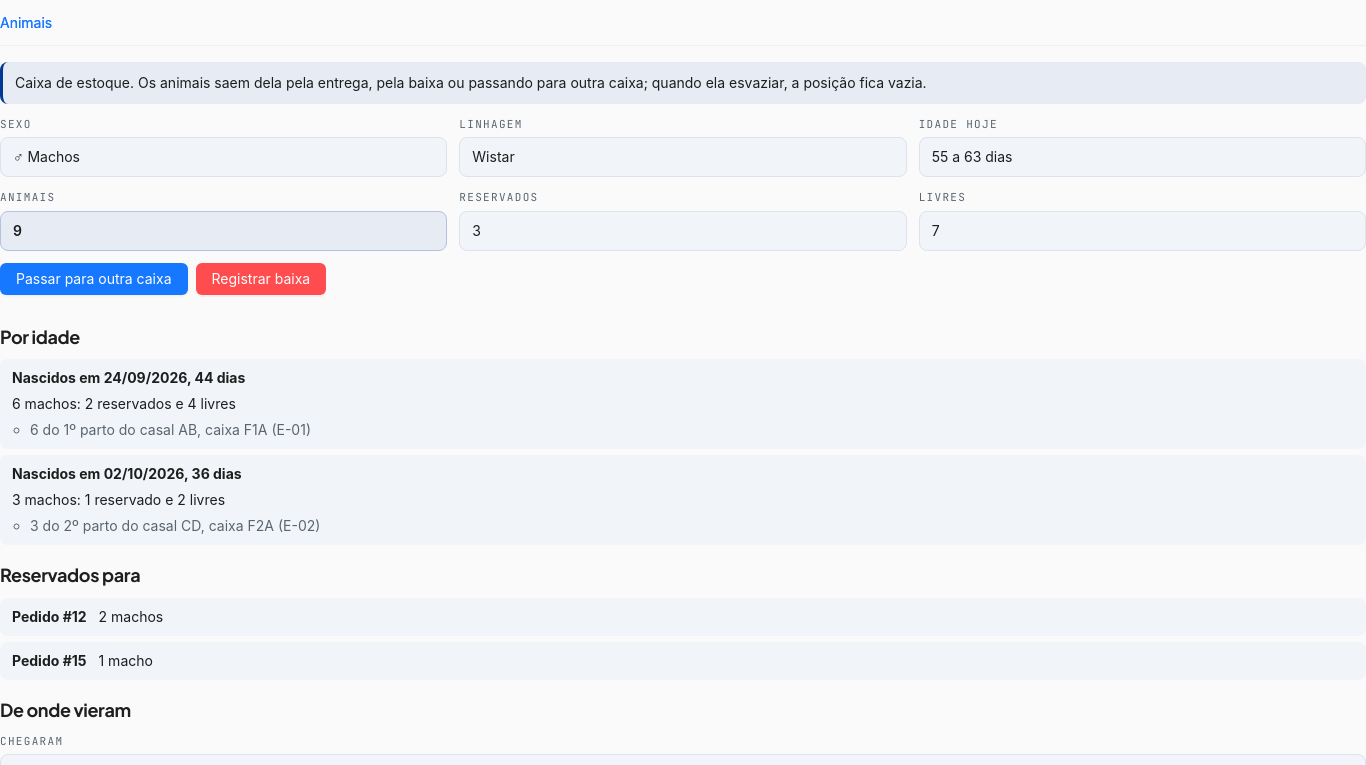
Test: ficha da caixa de estoque › "só os do pedido" oferece só os pedidos com reservado na idade escolhida
Later steps or results of the test are not shown.
Click the button "Passar para outra caixa". click: (94, 279)
box: [0,263,188,295]
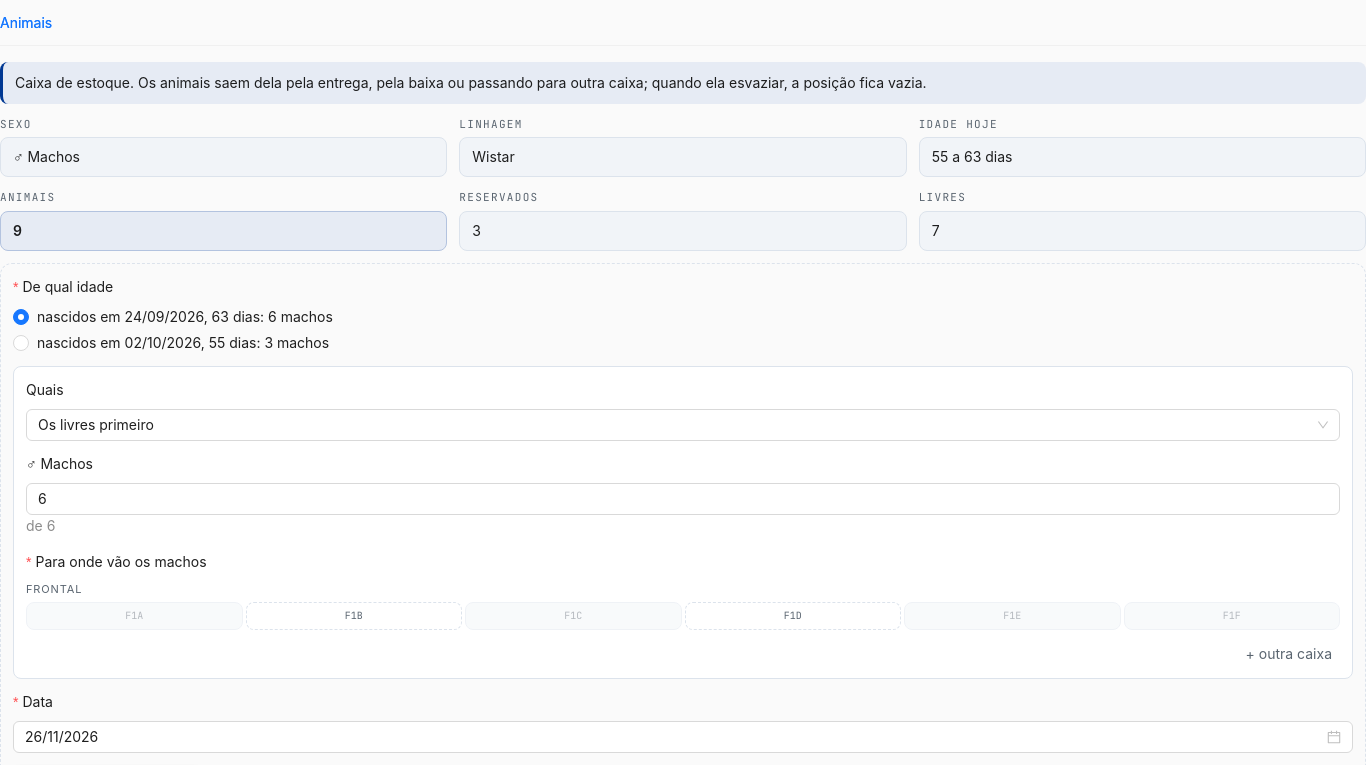
Press the mouse on the dropdown named "Quais machos" at (52, 390), box [26,379,78,401]
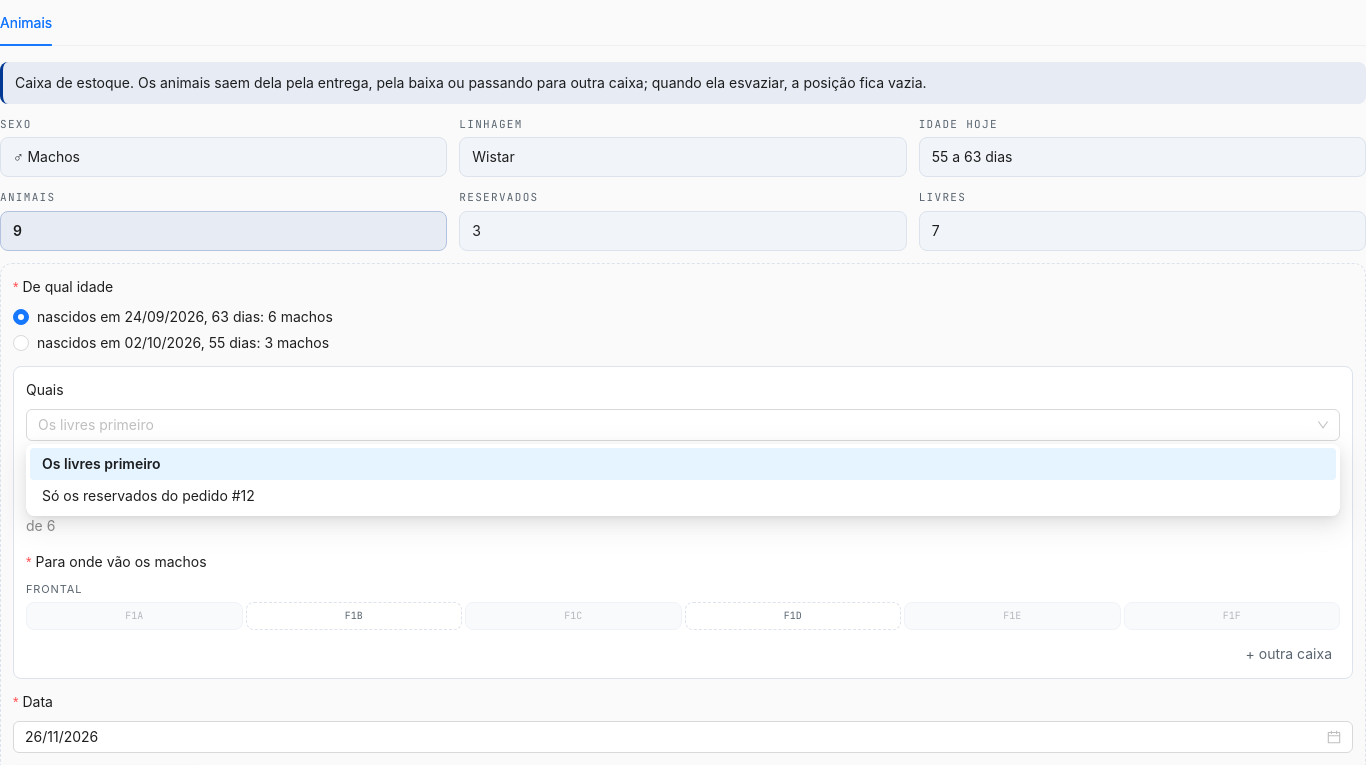
Expected: the element titled "Só os reservados do pedido #12" is shown, [42,487,255,504]
